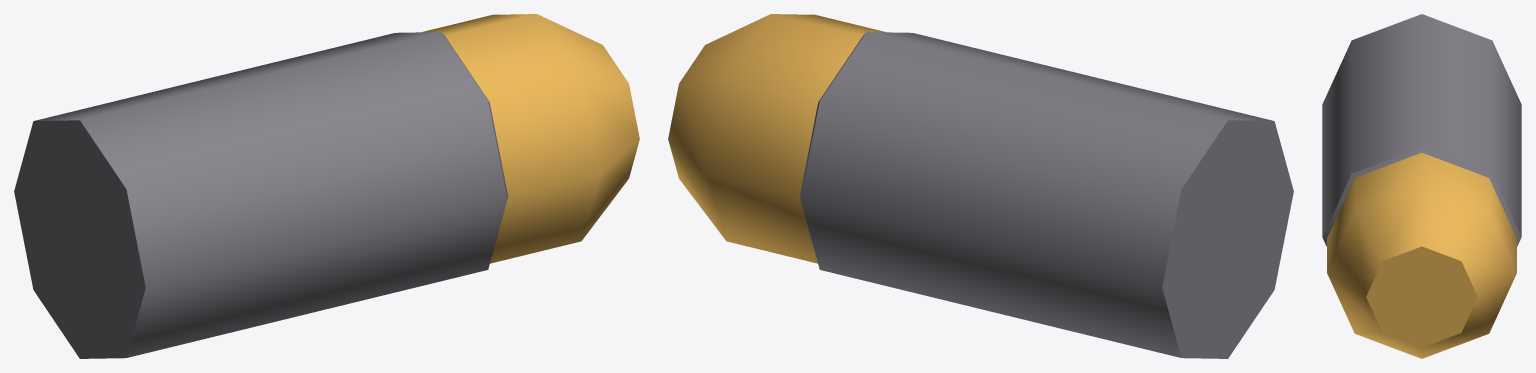
The model's file is GunProjectile.fbx.
3 renders of one model, left to right at view 1: azimuth 30°, elevation 25°; view 2: azimuth 150°, elevation 25°; view 3: azimuth 270°, elevation 25°, orthographic. The views are drawn at different scales.
Visible parts, largest first — view 1: Cylinder.002; view 2: Cylinder.002; view 3: Cylinder.002.
Part boxes in pixels (box(x1,y1,x2,y2)): Cylinder.002: box(14, 14, 639, 358); Cylinder.002: box(668, 14, 1293, 358); Cylinder.002: box(1322, 14, 1521, 358).
Bounding box in the file's own units: 4.59 × 2 × 2.
